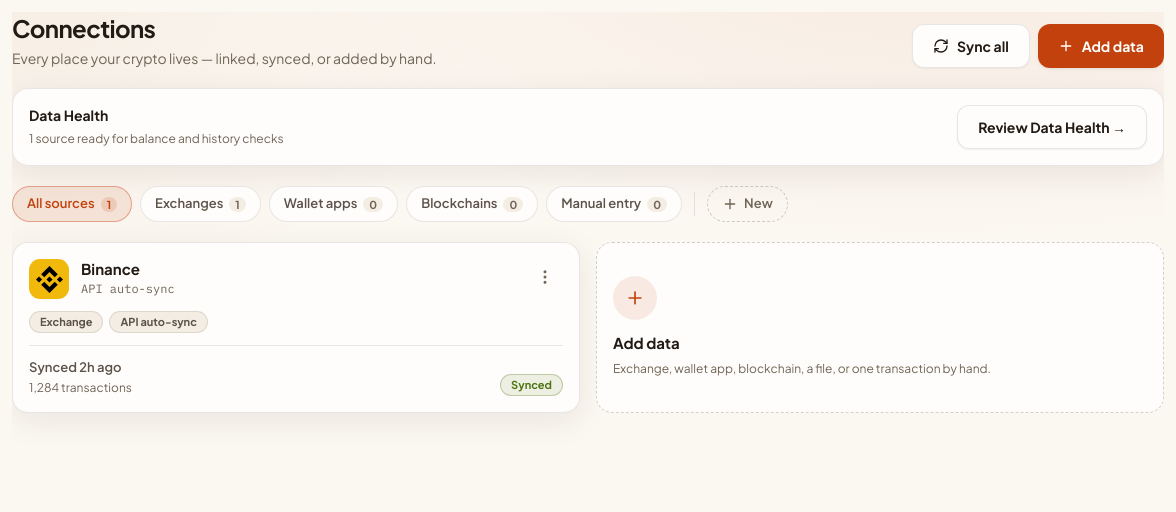
Test: ConnectionsHome — header & pills › shows an honest lane hint when a filter has no cards
The image size is (1176, 512).
Click the radio button labelled "Wallet apps 0".
click(334, 204)  # box left=269, top=186, right=398, bottom=222
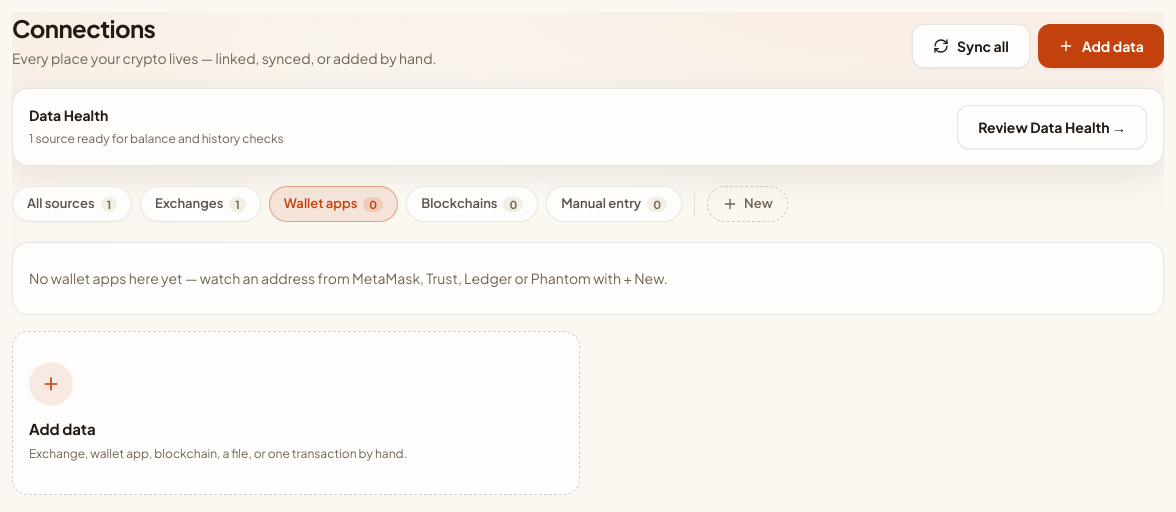
Expected: the text "No wallet apps here yet" is shown, left=29, top=269, right=668, bottom=287
